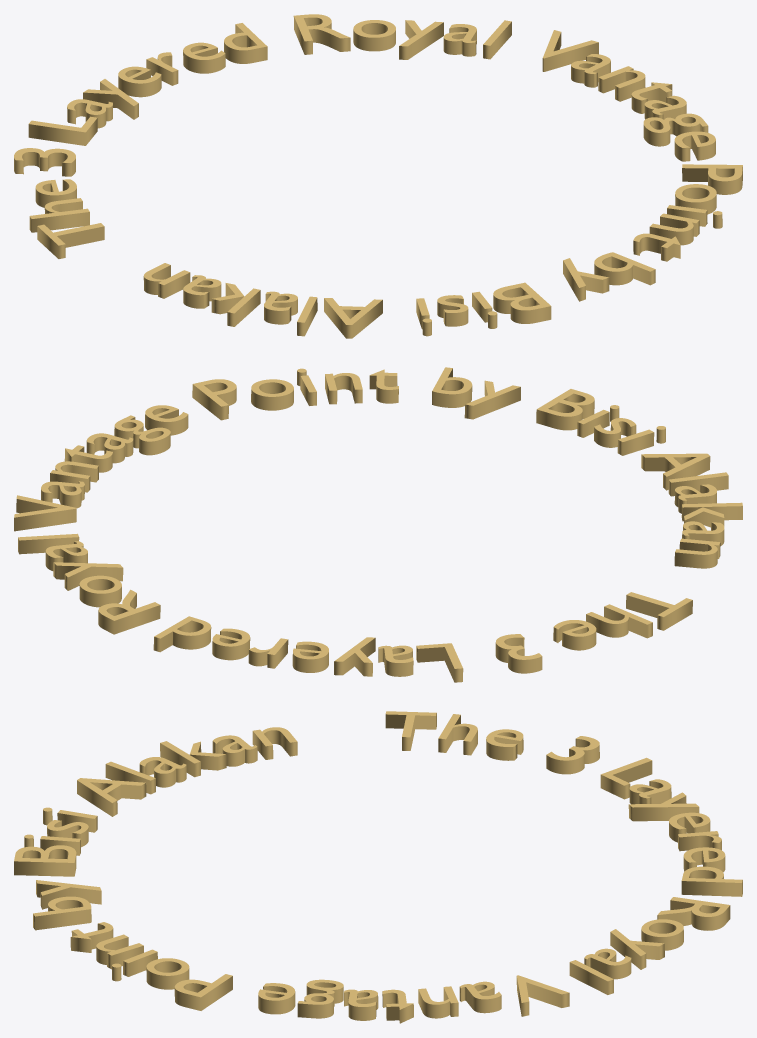
The picture shows the model from 3 angles, top to bottom: view 1: azimuth 30°, elevation 25°; view 2: azimuth 150°, elevation 25°; view 3: azimuth 270°, elevation 25°; orthographic projection.
Parts seen in each view (by area): view 1: Mark3_layered; view 2: Mark3_layered; view 3: Mark3_layered.
Boxes of the visible parts, bbox=[...] form: Mark3_layered: bbox=[14, 14, 742, 338]; Mark3_layered: bbox=[14, 367, 742, 682]; Mark3_layered: bbox=[14, 711, 742, 1023].
Size of the model in its own units: 3.79 by 0.1189 by 3.84.
